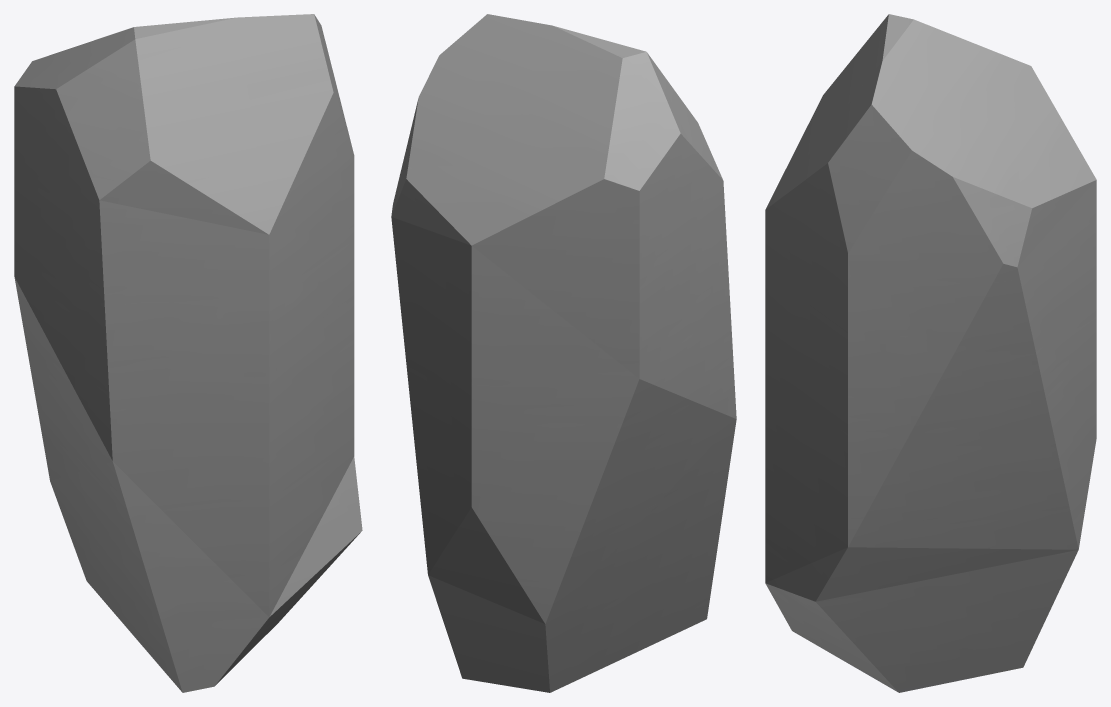
File: SM_Exterior_Piedra_03.fbx
The picture shows the model from 3 angles, left to right: view 1: azimuth 30°, elevation 25°; view 2: azimuth 150°, elevation 25°; view 3: azimuth 270°, elevation 25°; orthographic projection. The views are drawn at different scales.
Visible parts, largest first — view 1: SM_Exterior_Piedra3; view 2: SM_Exterior_Piedra3; view 3: SM_Exterior_Piedra3.
Boxes of the visible parts, bbox=[...] form: SM_Exterior_Piedra3: bbox=[14, 14, 362, 692]; SM_Exterior_Piedra3: bbox=[391, 14, 736, 692]; SM_Exterior_Piedra3: bbox=[765, 14, 1096, 692].
Size of the model in its own units: 118 by 275 by 136.
